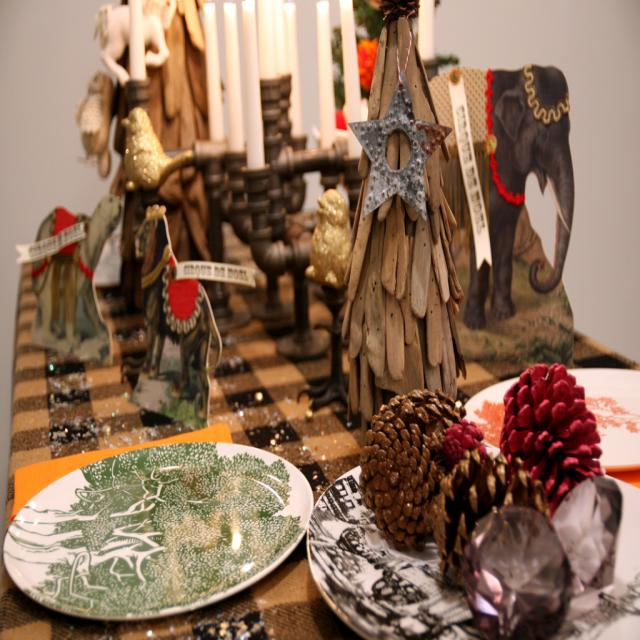elephant: (426, 59, 576, 332)
